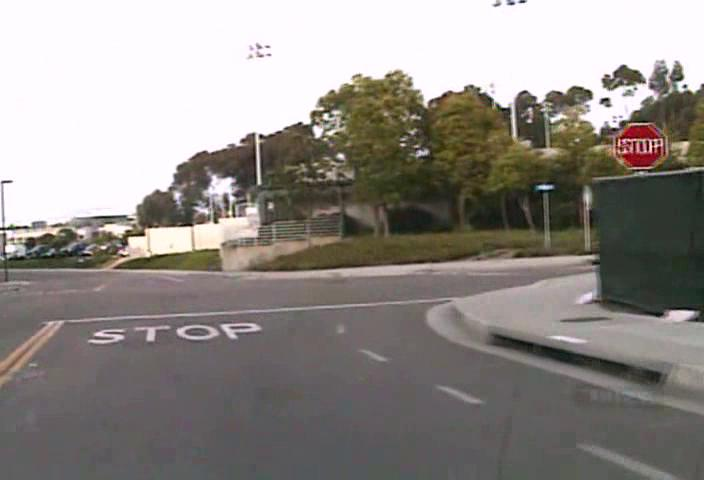stop: (613, 122, 667, 169)
